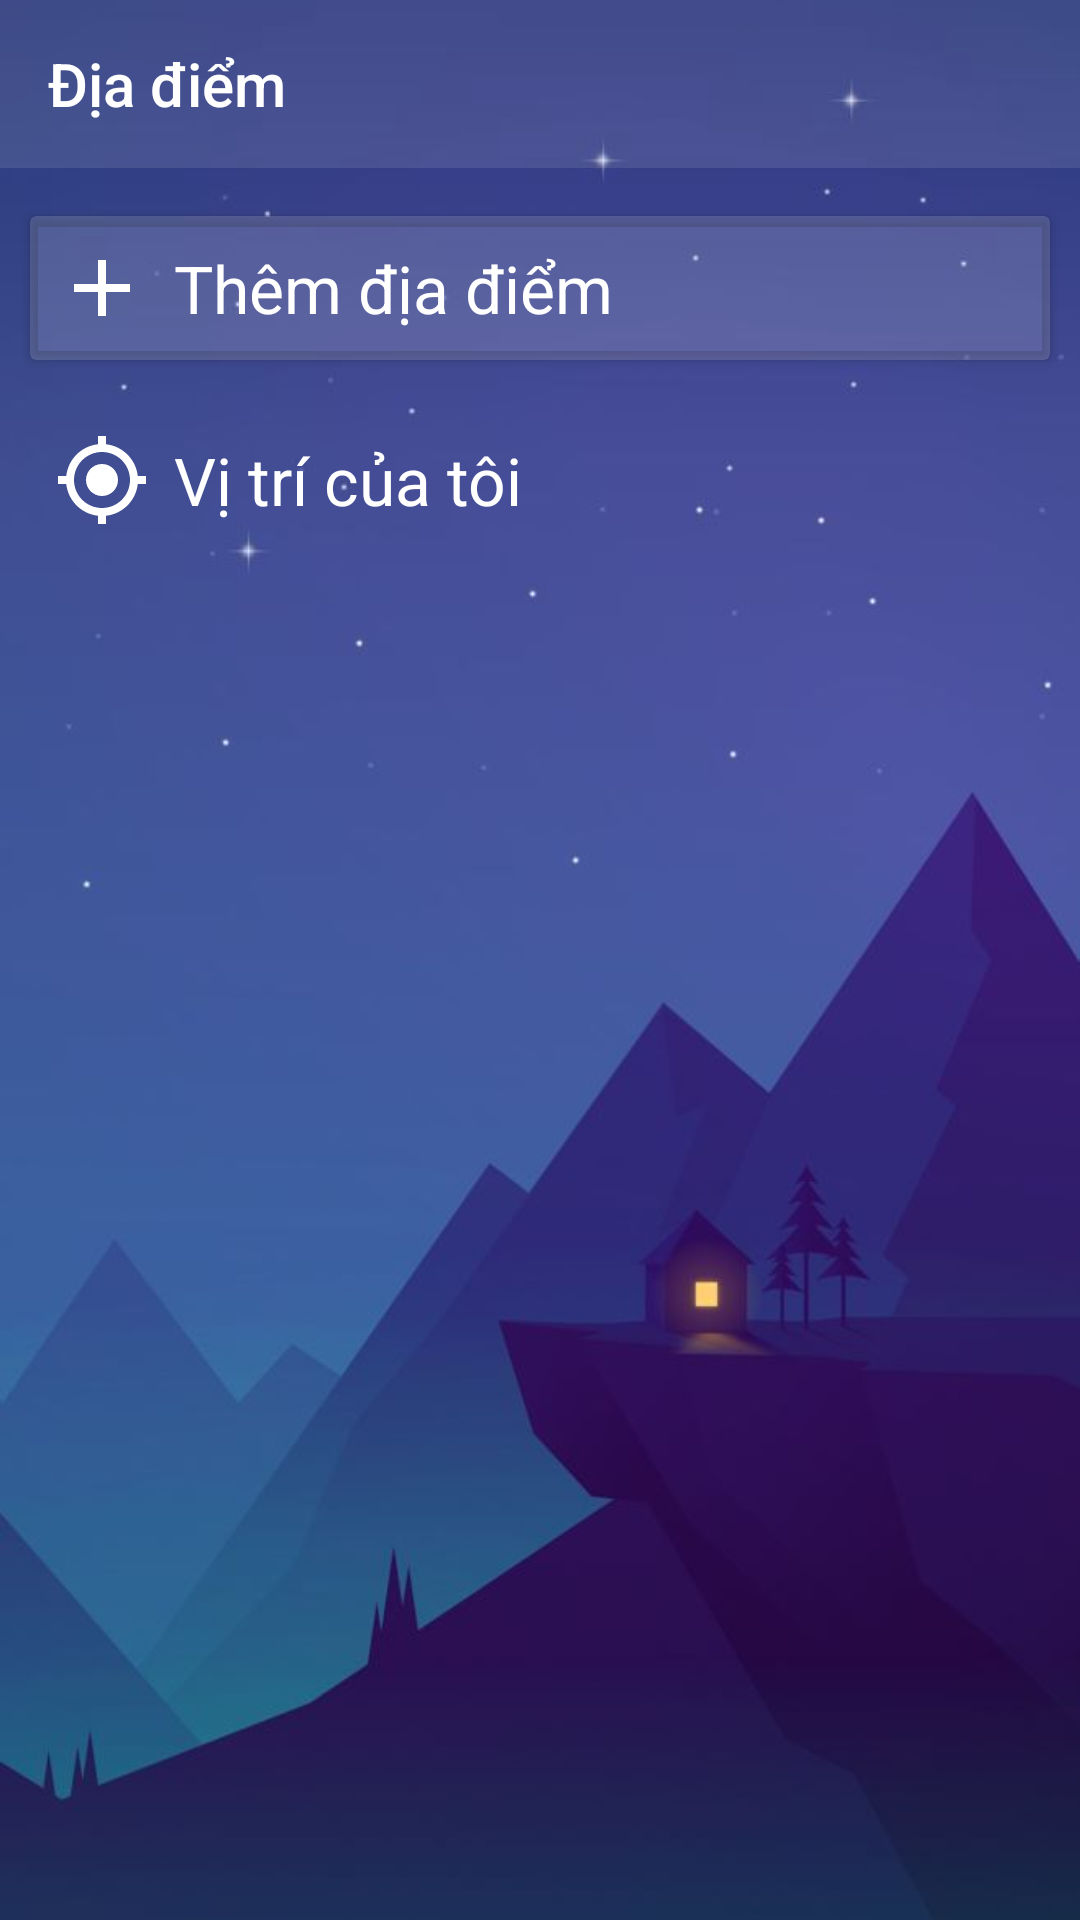

Point at icon controls on the screen. Image size 1080 × 1920, points as (x=x, y=y).
add: (x=102, y=288)
location: (x=102, y=480)
